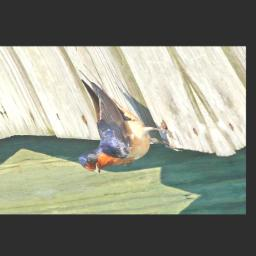Swallow: (39, 73, 190, 177)
